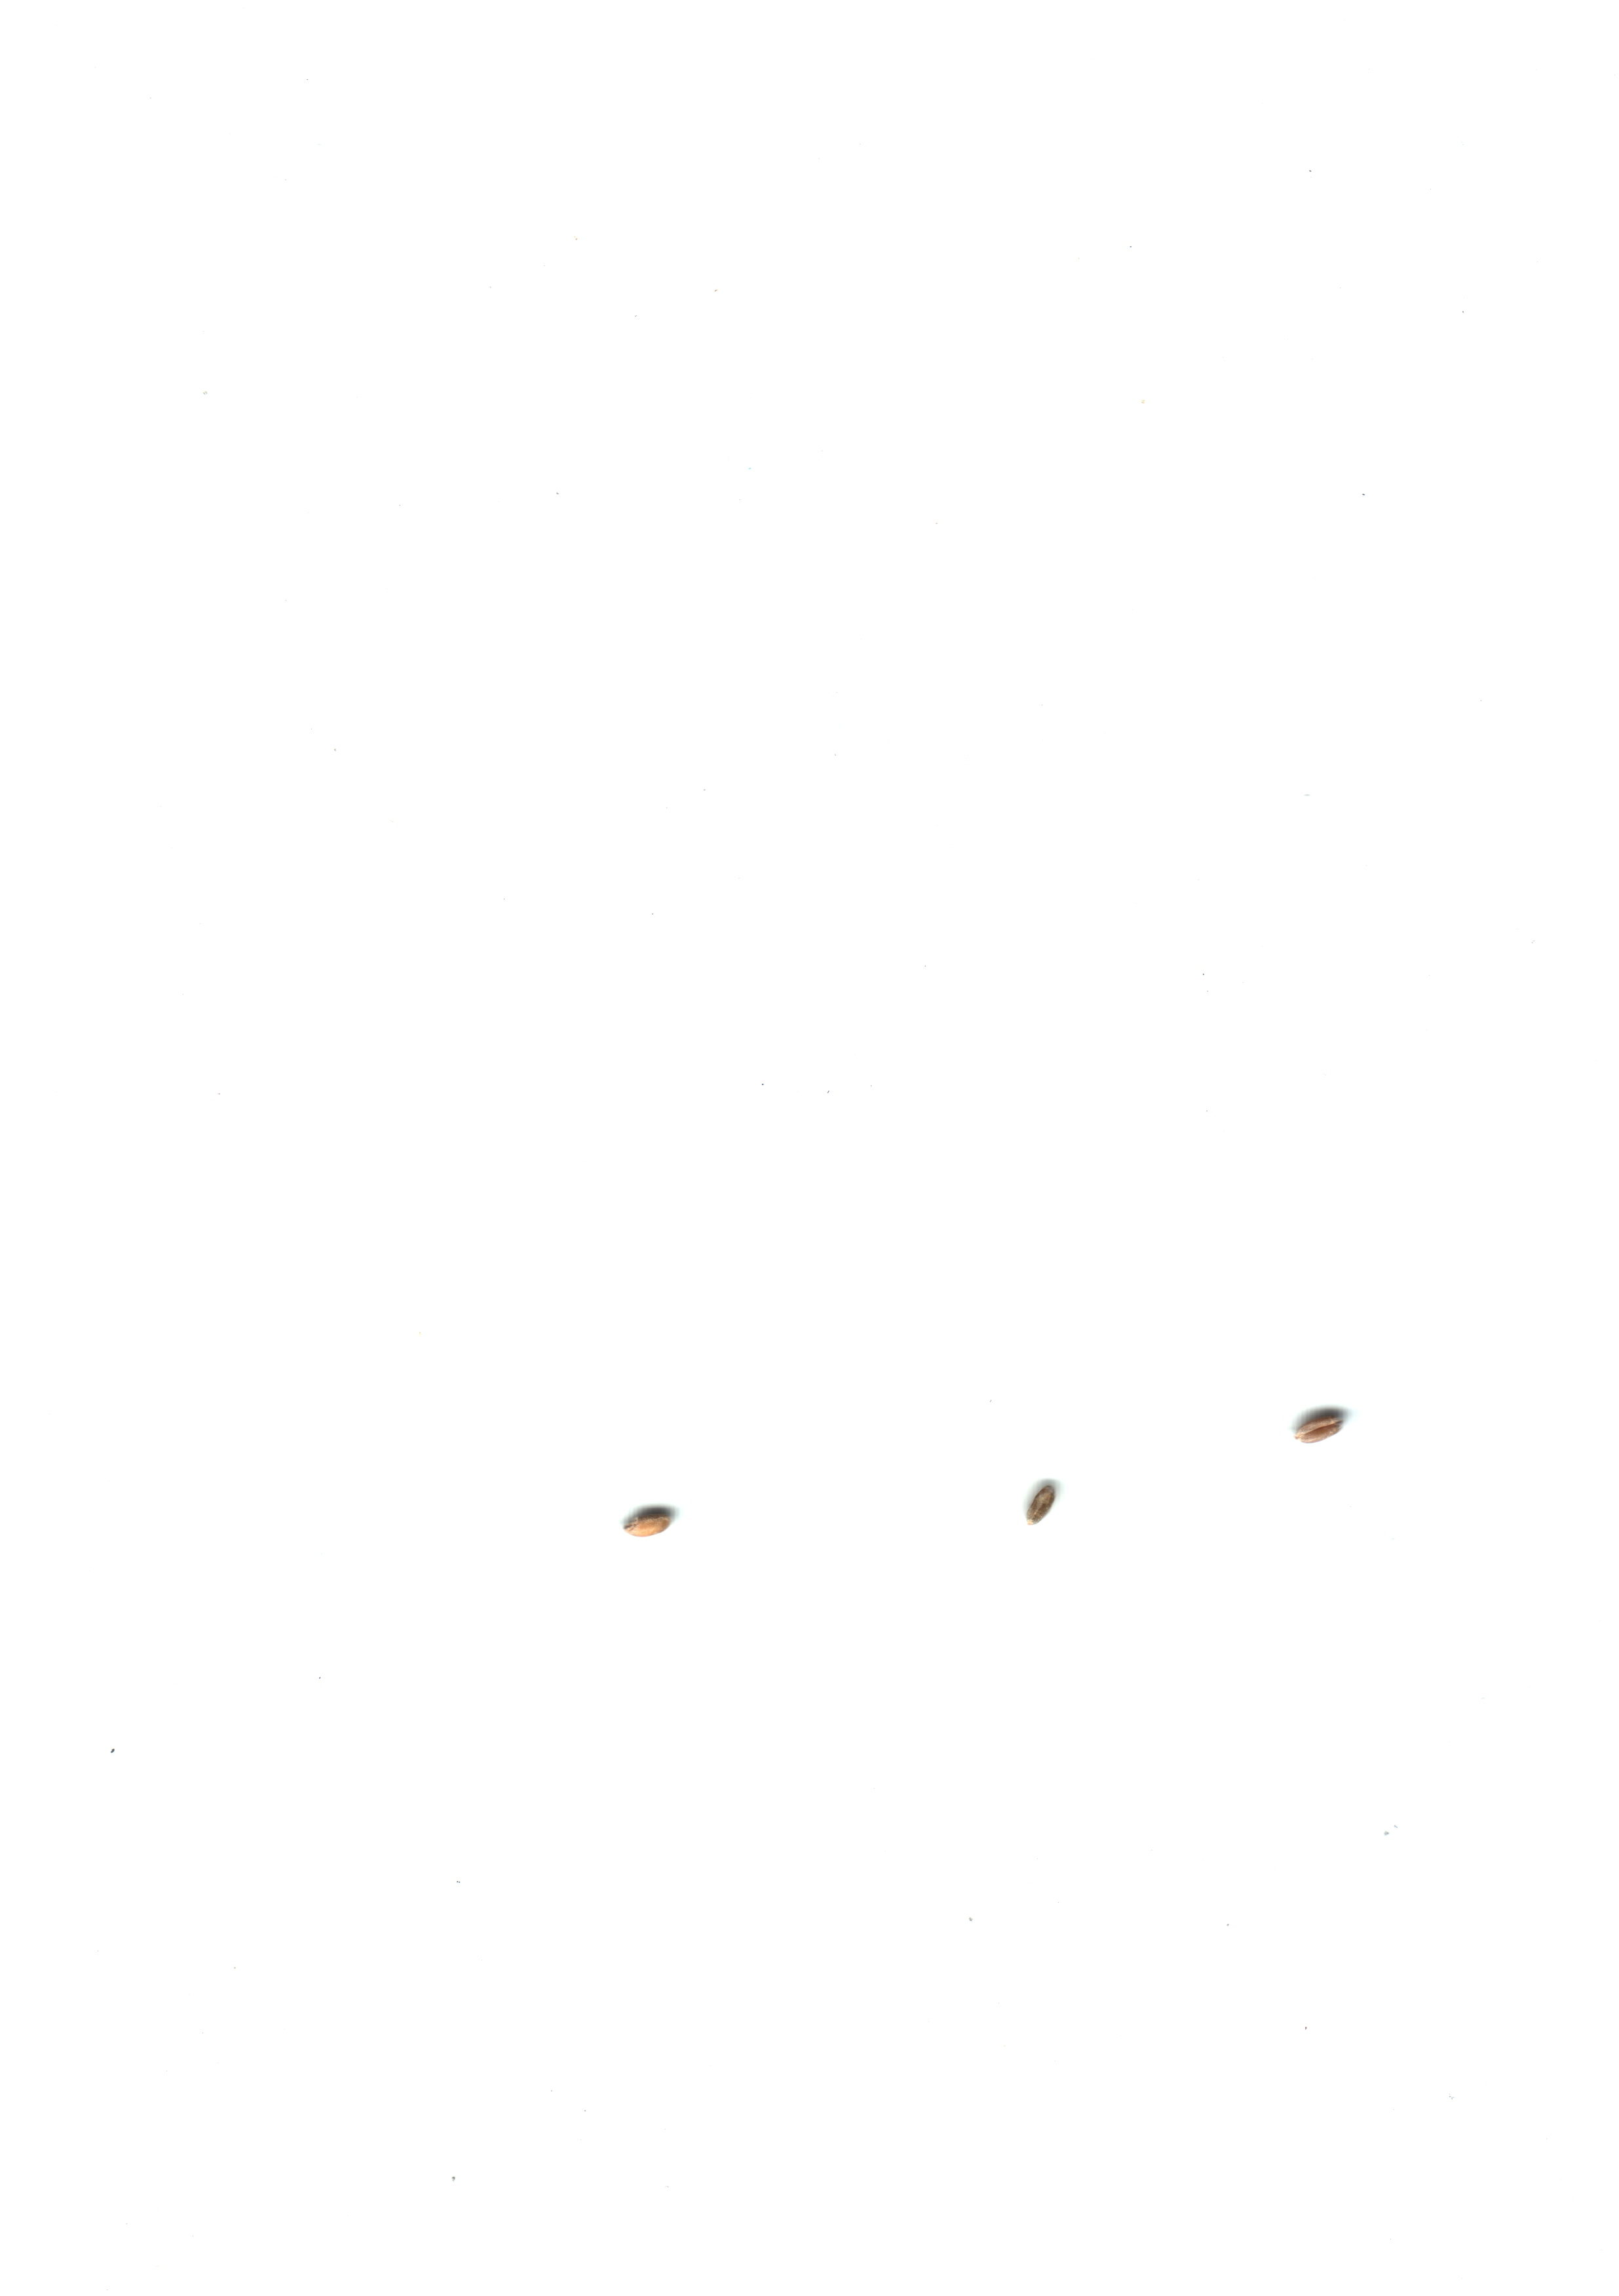grains_3mm: (603, 1472, 697, 1560), (1279, 1374, 1372, 1462), (1000, 1462, 1095, 1548)
